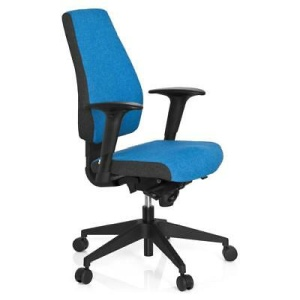chair: (61, 8, 238, 291)
